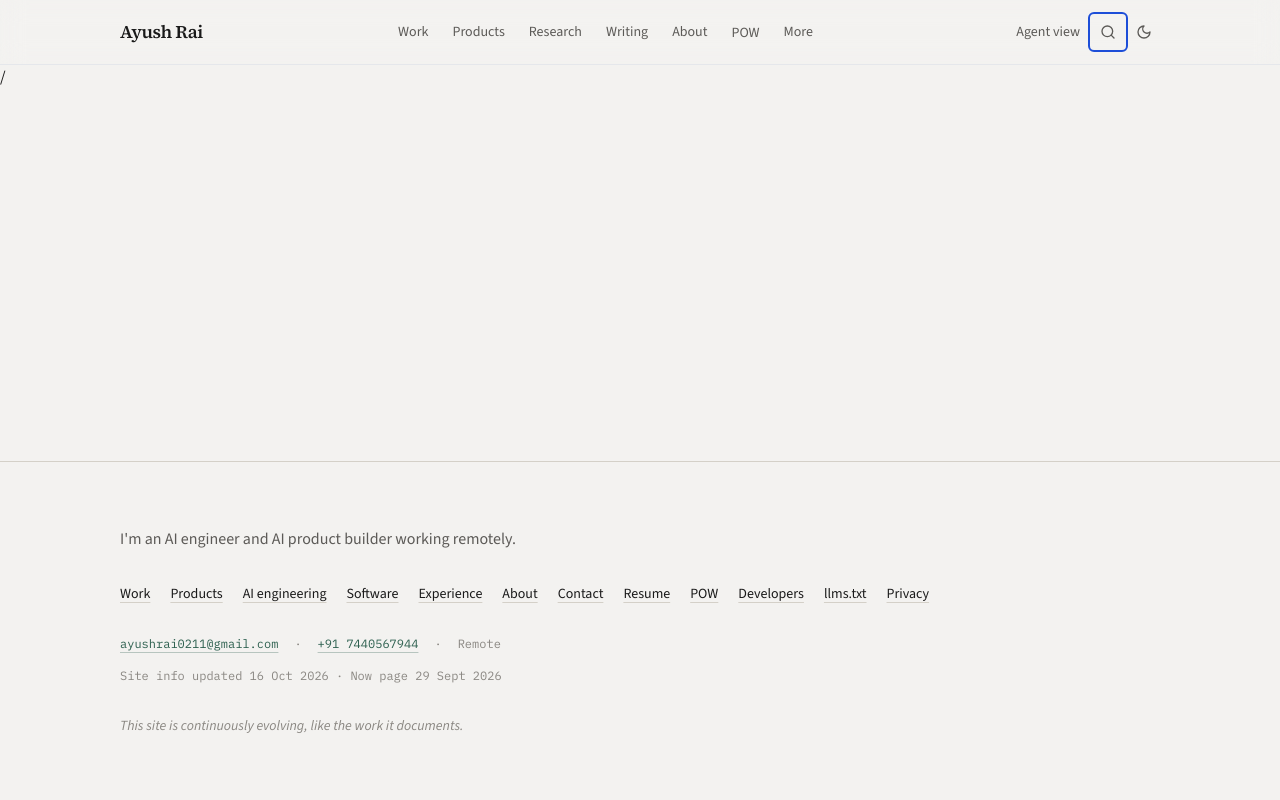
Test: SearchDialog › moves the active option with the arrow keys and opens it with Enter
Click the button named "Open search".
click(1108, 32)  # box top-left (1092, 16), bottom-right (1124, 48)
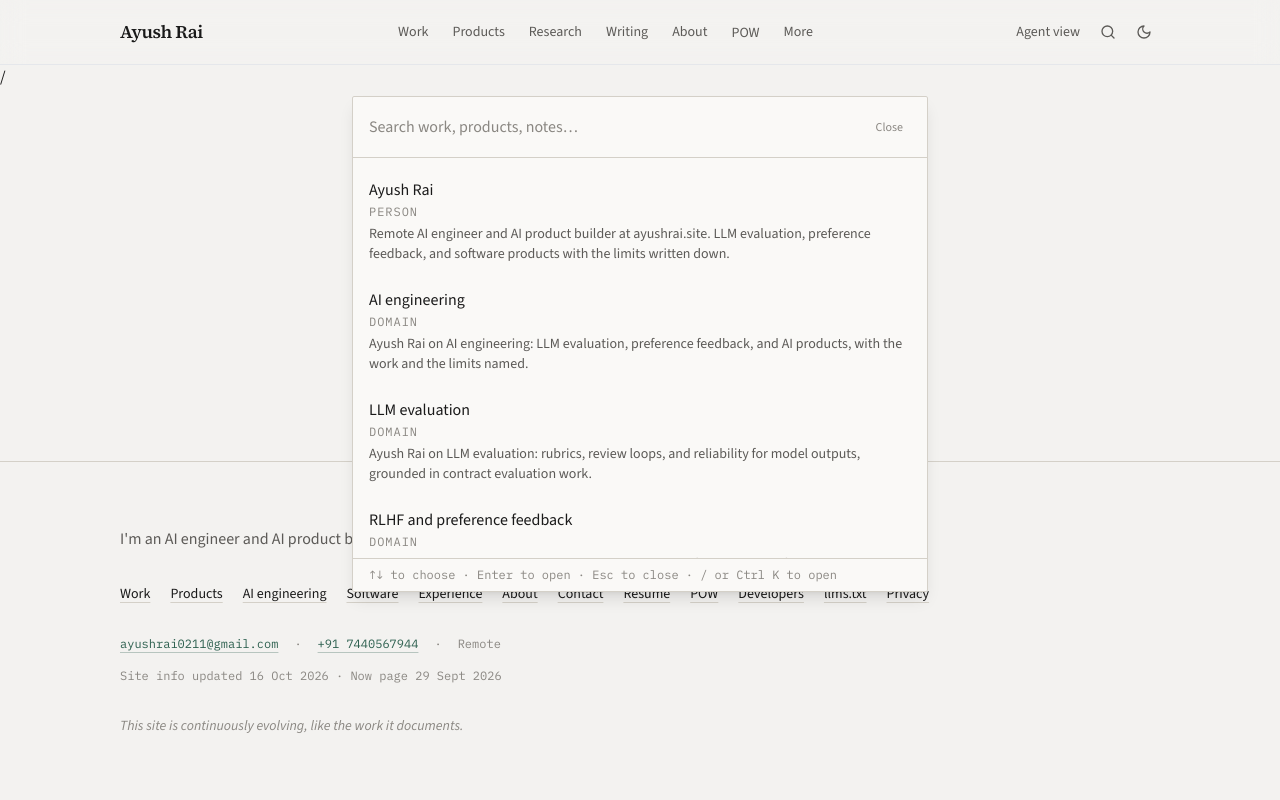
Press ArrowDown in the dropdown labelled "Search", box top-left (369, 115), bottom-right (856, 139)
Press ArrowUp in the dropdown labelled "Search", box top-left (369, 115), bottom-right (856, 139)
Press ArrowUp in the dropdown labelled "Search", box top-left (369, 115), bottom-right (856, 139)
Press Enter in the dropdown labelled "Search", box top-left (369, 115), bottom-right (856, 139)
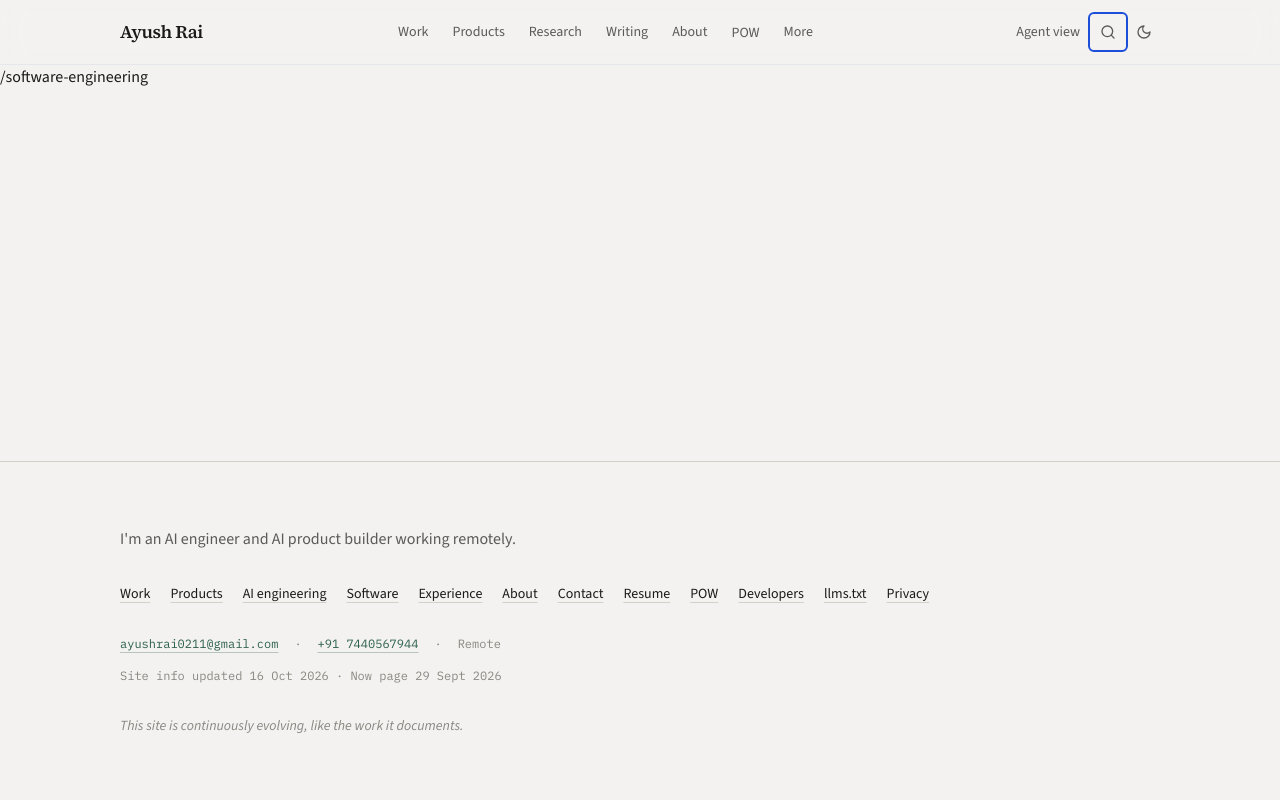
Expected: the dialog is gone
Expected: the text with test id "where" reads "/software-engineering", top-left (0, 66), bottom-right (148, 87)
